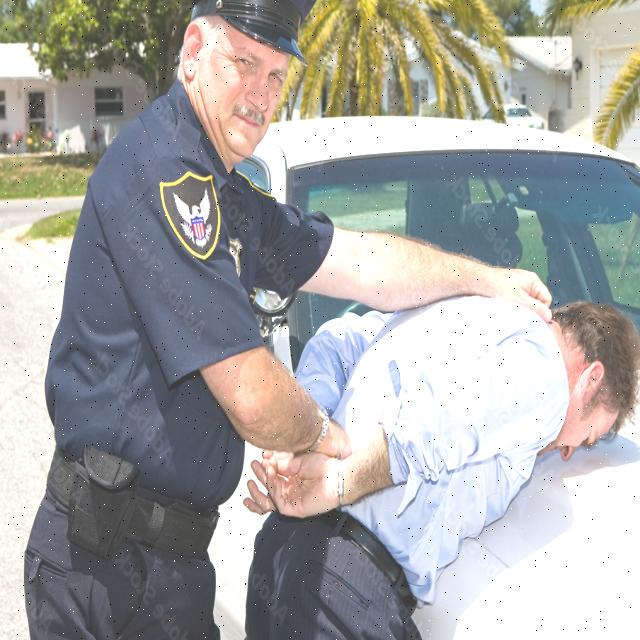police: (23, 0, 388, 640)
